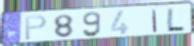4: (110, 9, 130, 36)
8: (52, 14, 76, 38)
9: (82, 11, 102, 38)
I: (151, 9, 158, 33)
L: (165, 7, 187, 32)
P: (24, 14, 49, 41)
